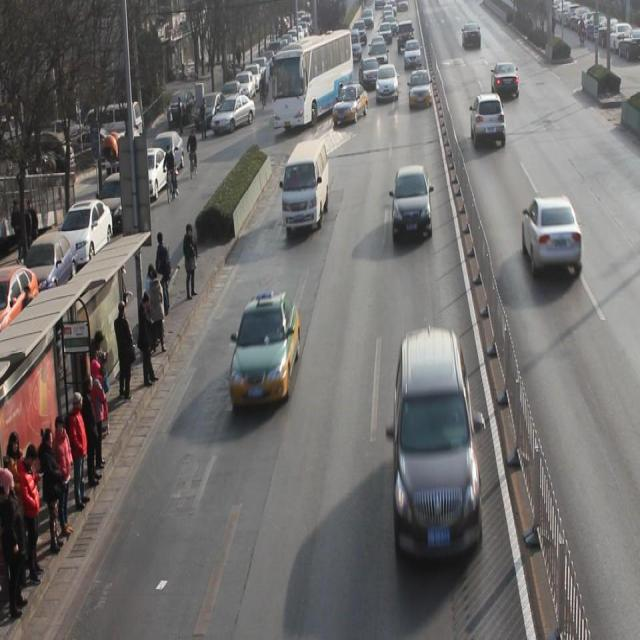car: (392, 329, 484, 565), (230, 296, 302, 410), (523, 197, 583, 277), (392, 167, 432, 241), (471, 94, 506, 149), (331, 85, 370, 126), (492, 61, 520, 100), (408, 69, 433, 111), (375, 63, 399, 103), (358, 57, 381, 92)
truck: (282, 140, 330, 235)
van: (272, 31, 354, 131)
